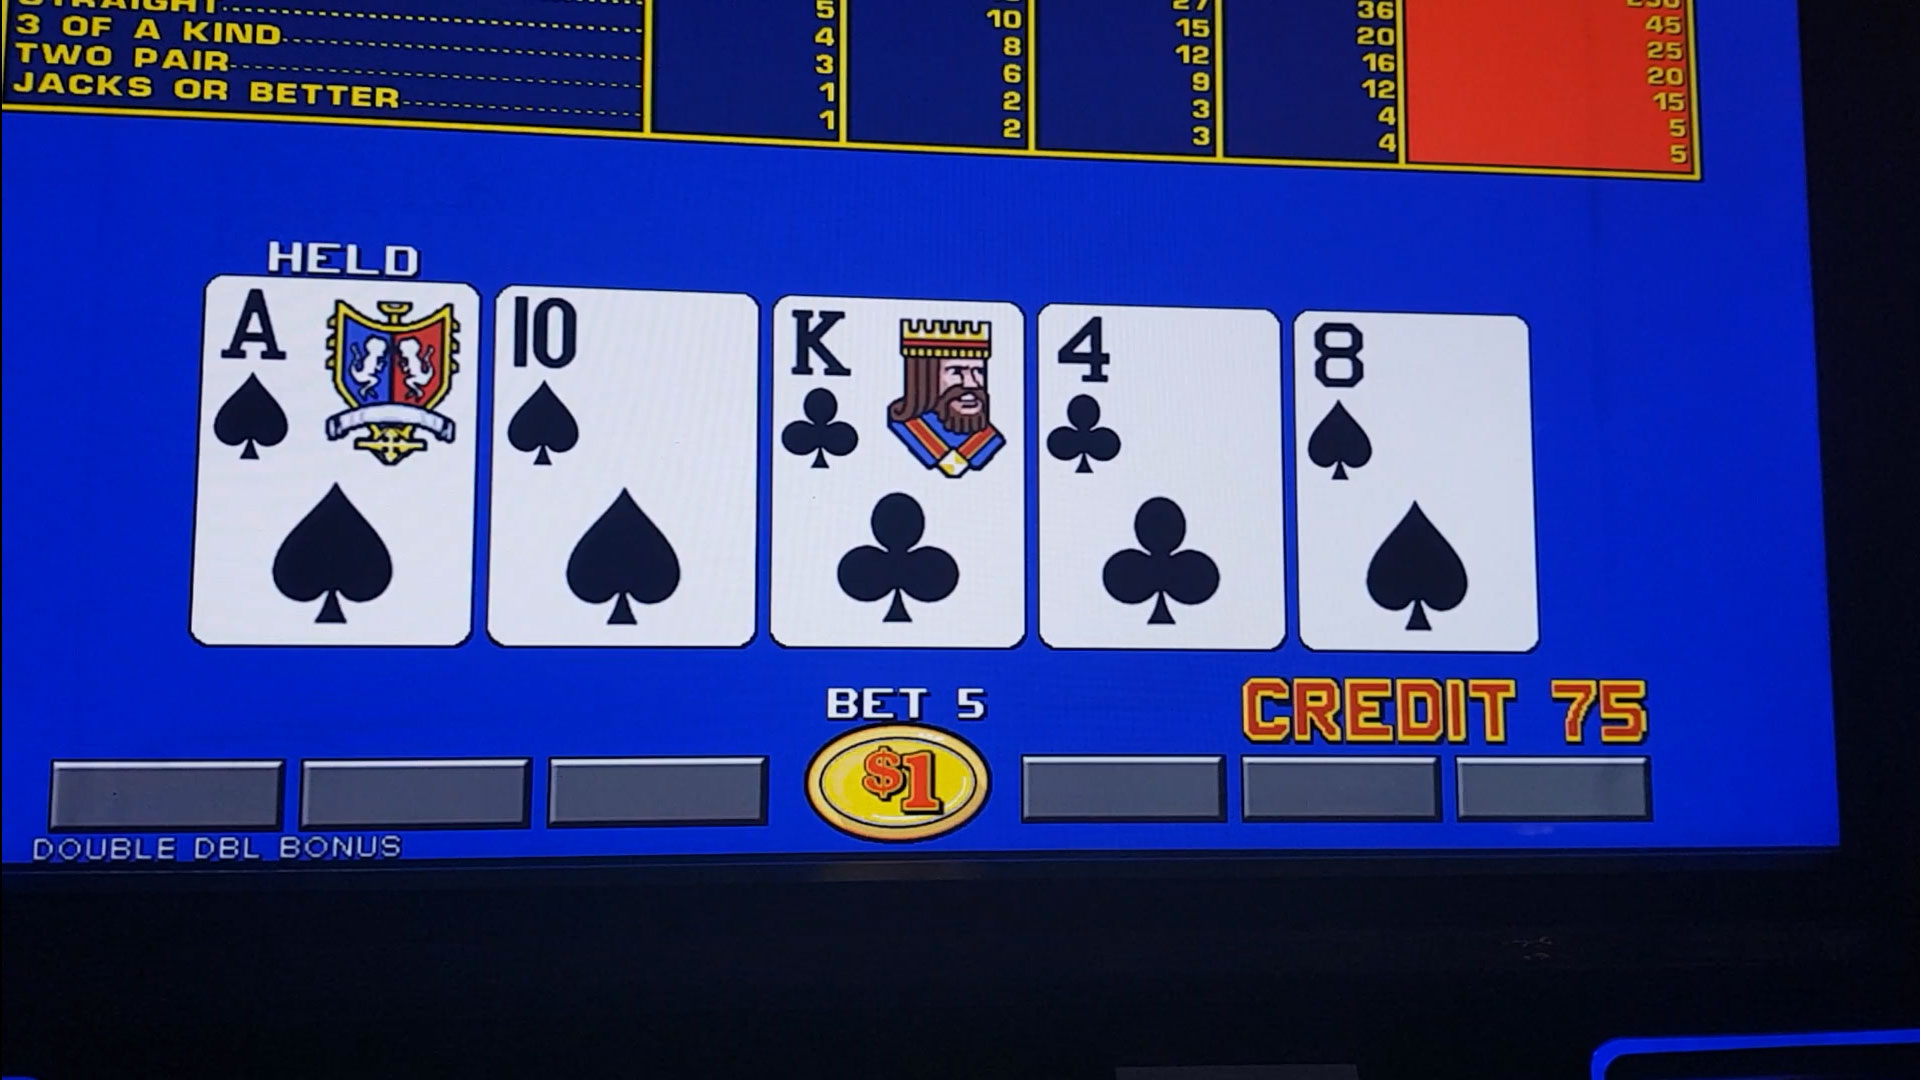C4: (1051, 316, 1271, 489)
CK: (779, 299, 1019, 491)
S8: (1304, 318, 1524, 491)
SA: (214, 290, 471, 472)
ST: (500, 297, 750, 484)
